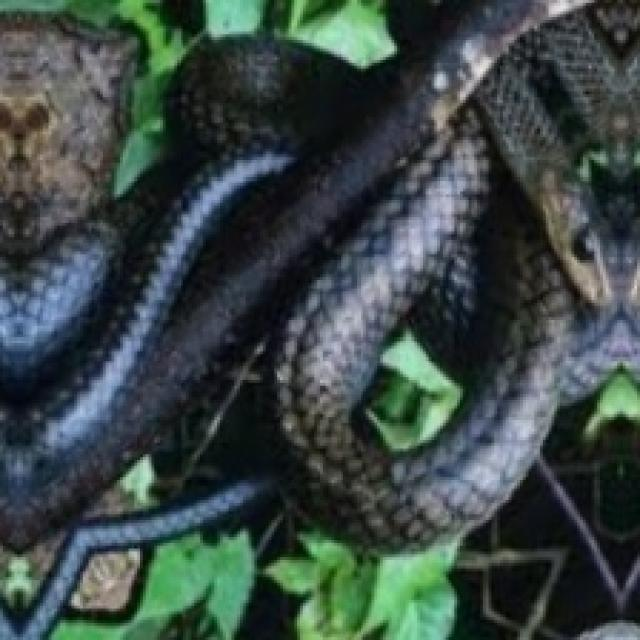smooth-scaled mountain rat snake: (0, 0, 637, 637), (0, 0, 637, 546)
